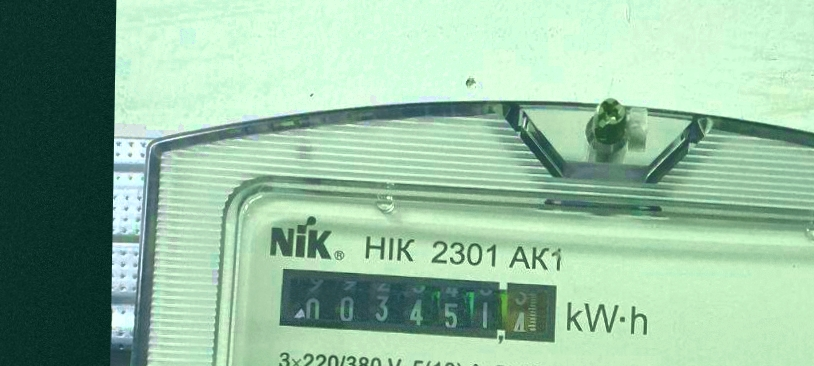0: (336, 294, 355, 323), (301, 294, 321, 321)
1: (476, 299, 492, 330)
3: (371, 292, 391, 323)
4: (405, 296, 425, 329), (508, 308, 528, 336)
5: (441, 299, 458, 330)
screen: (272, 263, 562, 350)
